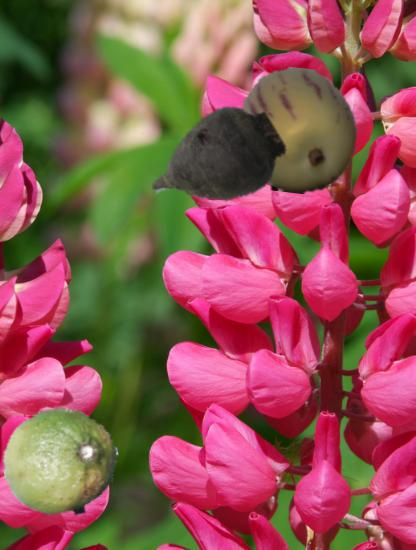Beetroot: (142, 90, 288, 236)
Limes: (3, 405, 119, 521)
Pepino: (235, 68, 360, 193)
